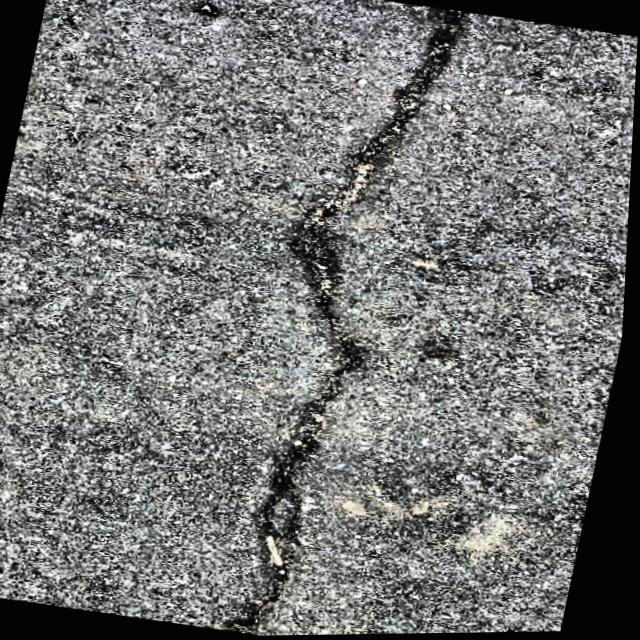Clogged Drains: (235, 10, 463, 635)
